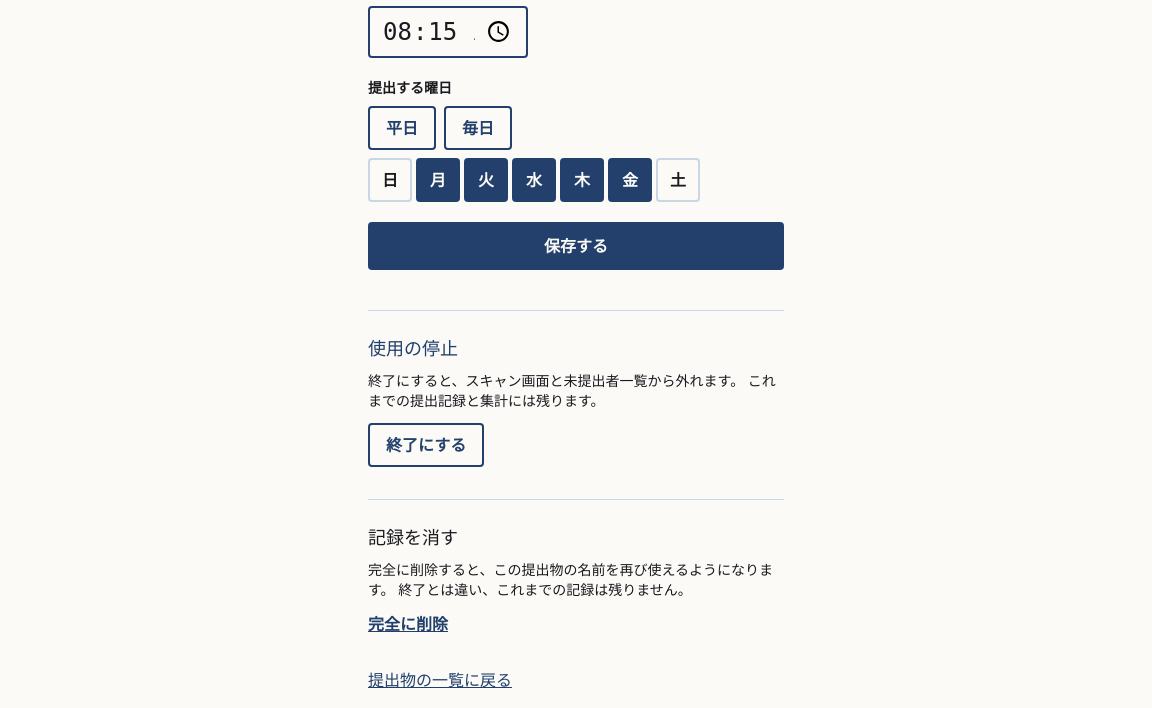
完全に削除 › 確認したうえで削除する
(page scrolled)
Click the button "完全に削除" at (408, 624), box [368,612,448,636]
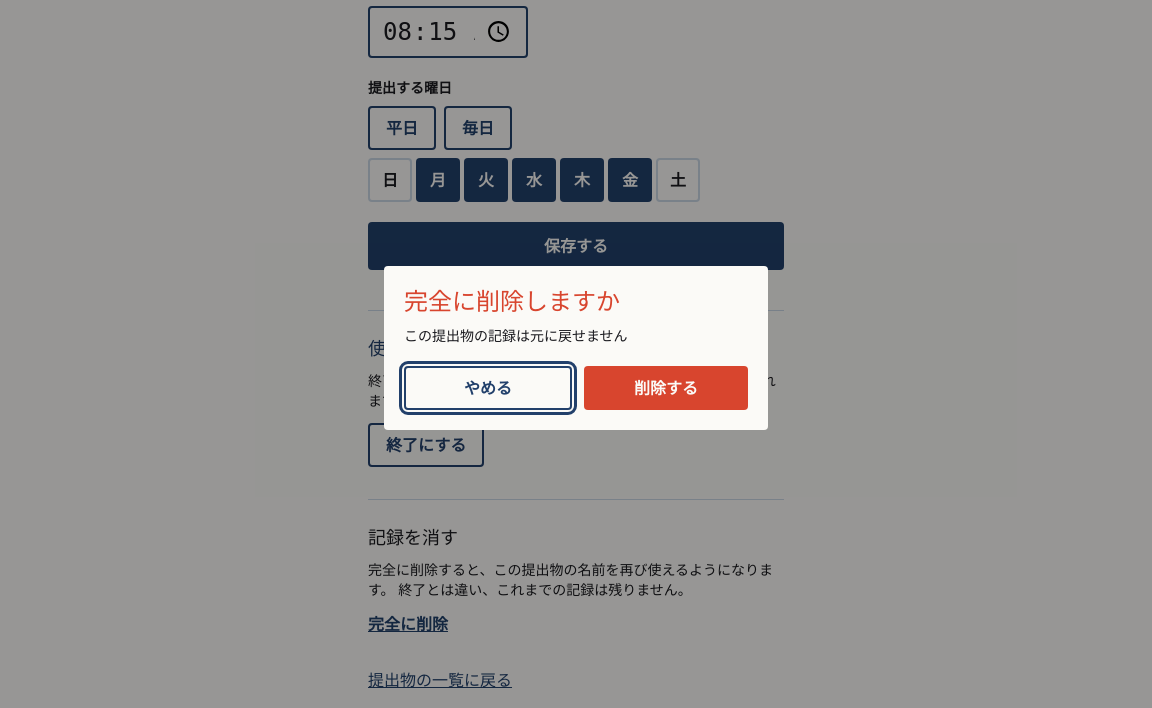
Now the text "この提出物の記録は元に戻せません" is shown, box [404,326,628,345]
Click the button "削除する" at (666, 388), box [584,366,748,410]
(page scrolled)
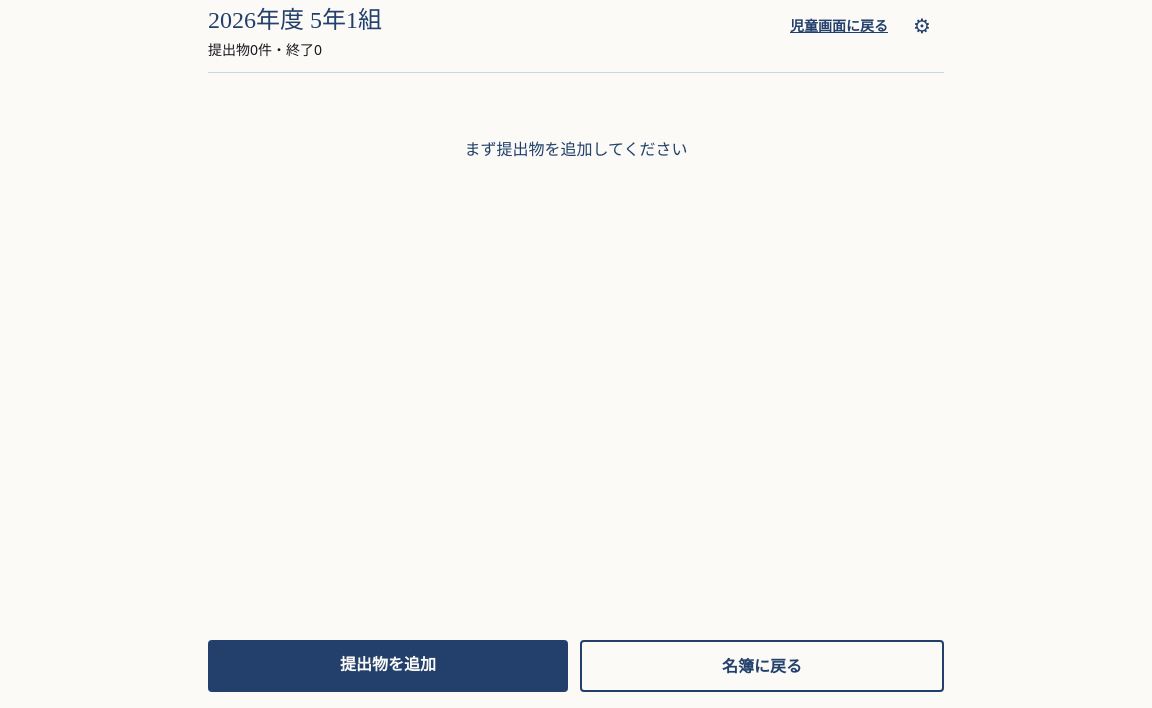
Now the text "まず提出物を追加してください" is shown, box [464,138,688,160]
